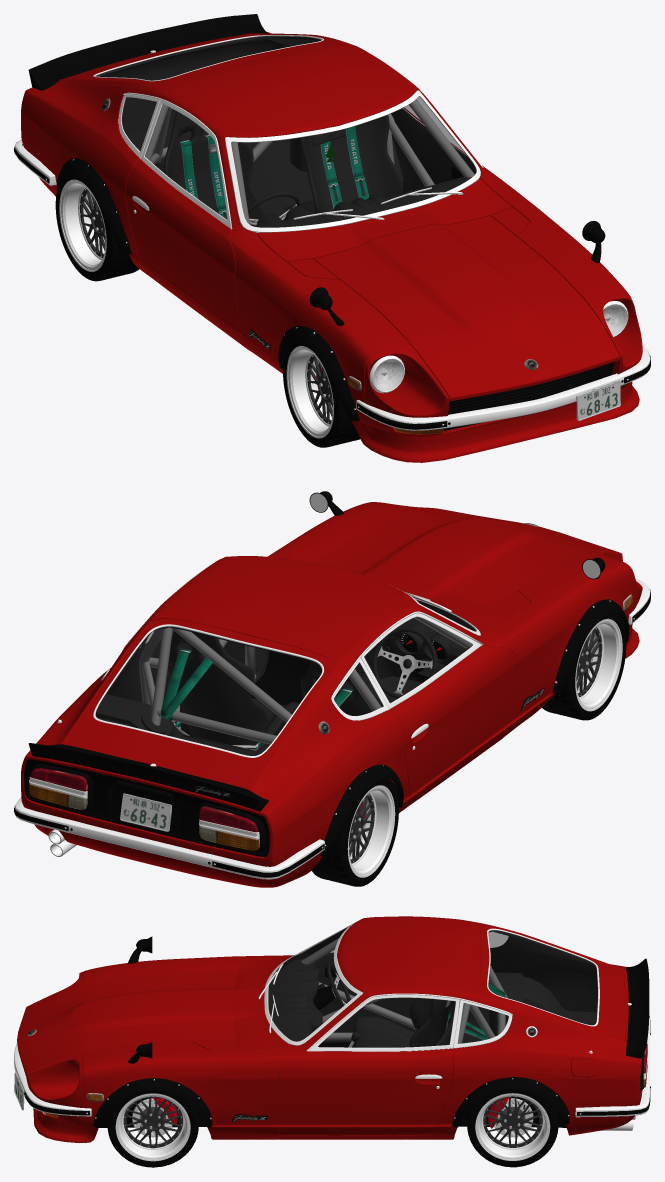
File: car.glb
The picture shows the model from 3 angles, top to bottom: view 1: azimuth 30°, elevation 25°; view 2: azimuth 150°, elevation 25°; view 3: azimuth 270°, elevation 25°; orthographic projection. The views are drawn at different scales.
Visible parts, largest first — view 1: Object_17; view 2: Object_17; view 3: Object_17.
Boxes of the visible parts, <box> form: Object_17: <box>14,14,650,462</box>; Object_17: <box>14,491,650,887</box>; Object_17: <box>14,916,650,1167</box>.
Size of the model in its own units: 1.19 by 0.7942 by 2.8.
Materials: 33 (8 with a texture image).
